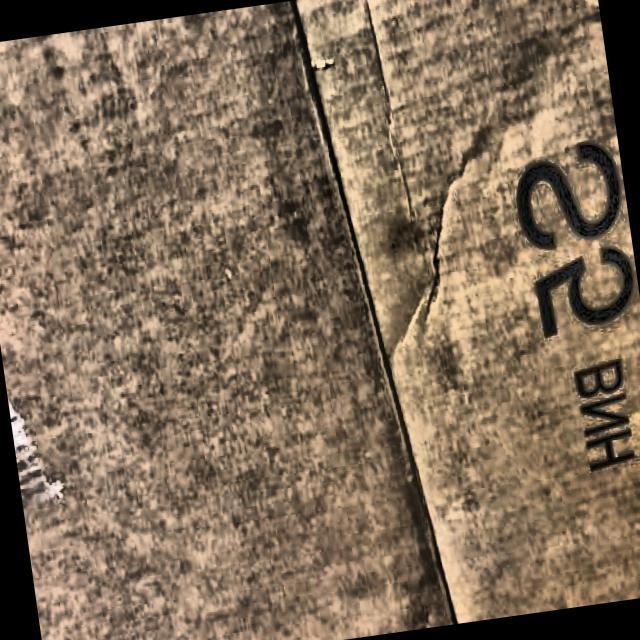cardboard: (0, 0, 462, 640), (288, 0, 640, 635)
